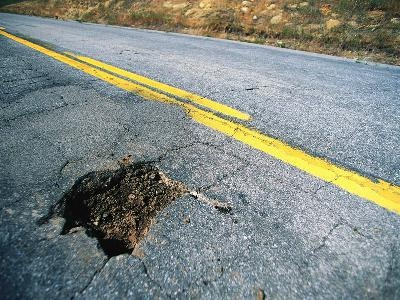pothole: (33, 157, 192, 263)
